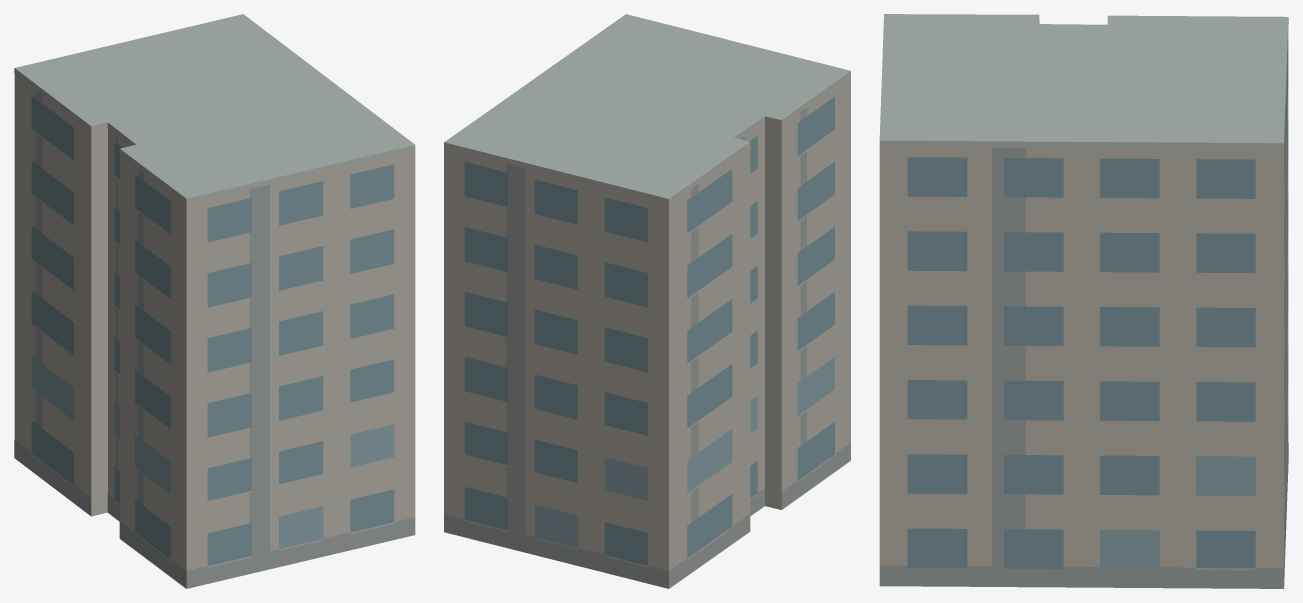
The model's file is survey-upis-32972336.glb.
3 renders of one model, left to right at view 1: azimuth 30°, elevation 25°; view 2: azimuth 150°, elevation 25°; view 3: azimuth 270°, elevation 25°, orthographic. The views are drawn at different scales.
Visible parts, largest first — view 1: survey-upis-32972336.tmp; view 2: survey-upis-32972336.tmp; view 3: survey-upis-32972336.tmp.
Boxes of the visible parts, x1,y1,x2,y2 form: survey-upis-32972336.tmp: [14, 14, 415, 588]; survey-upis-32972336.tmp: [444, 14, 850, 588]; survey-upis-32972336.tmp: [879, 14, 1288, 588].
Size of the model in its own units: 10.87 by 17.45 by 14.52.
